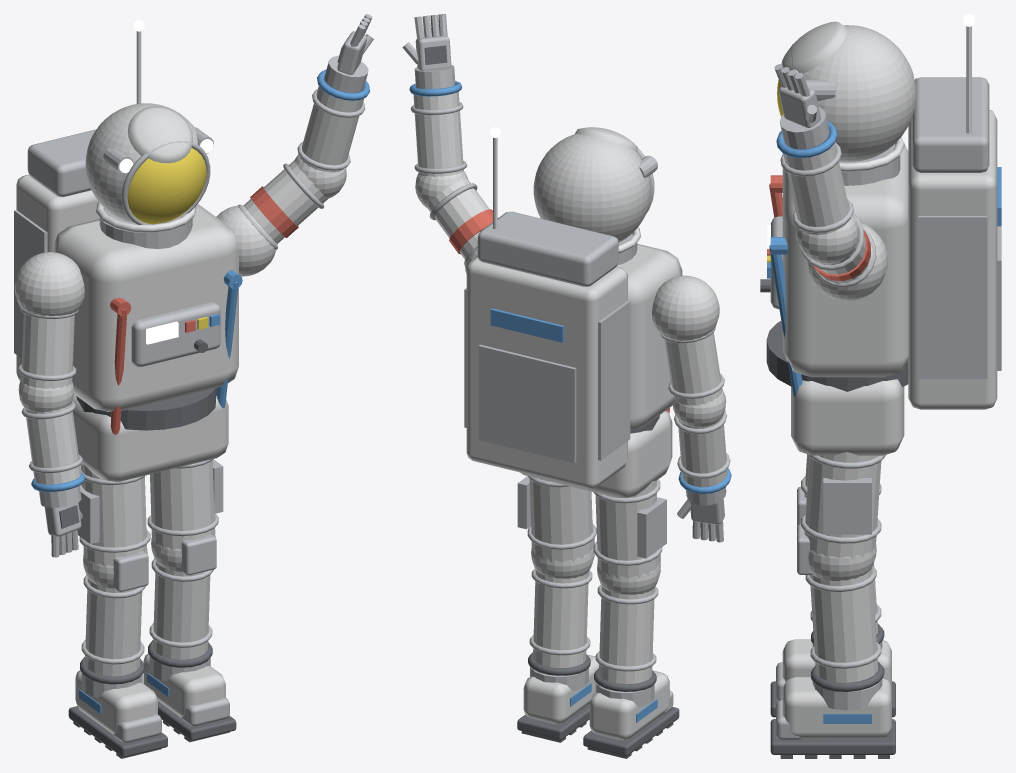
Rendered from space-teacher.glb.
3 renders of one model, left to right at view 1: azimuth 30°, elevation 25°; view 2: azimuth 150°, elevation 25°; view 3: azimuth 270°, elevation 25°, orthographic. The views are drawn at different scales.
Visible parts, largest first — view 1: astronaut-waving, arm-wave/white, arm-wave/grey, arm-wave/red; view 2: astronaut-waving, arm-wave/white, arm-wave/grey, arm-wave/red; view 3: astronaut-waving, arm-wave/white, arm-wave/grey, arm-wave/blue, arm-wave/red.
Part boxes in pixels (x1,y1,x2,y2): astronaut-waving: (14, 20, 277, 758); arm-wave/white: (243, 86, 363, 243); arm-wave/grey: (238, 14, 373, 249); arm-wave/red: (250, 186, 298, 237); astronaut-waving: (464, 127, 731, 758); arm-wave/white: (413, 92, 489, 259); arm-wave/grey: (402, 14, 477, 265); arm-wave/red: (449, 209, 497, 254); astronaut-waving: (760, 14, 1001, 758); arm-wave/white: (783, 143, 871, 282); arm-wave/grey: (774, 64, 876, 287); arm-wave/blue: (776, 121, 837, 158); arm-wave/red: (813, 230, 870, 281).
Bounding box in the file's own units: 1.1 × 2.09 × 0.595.
